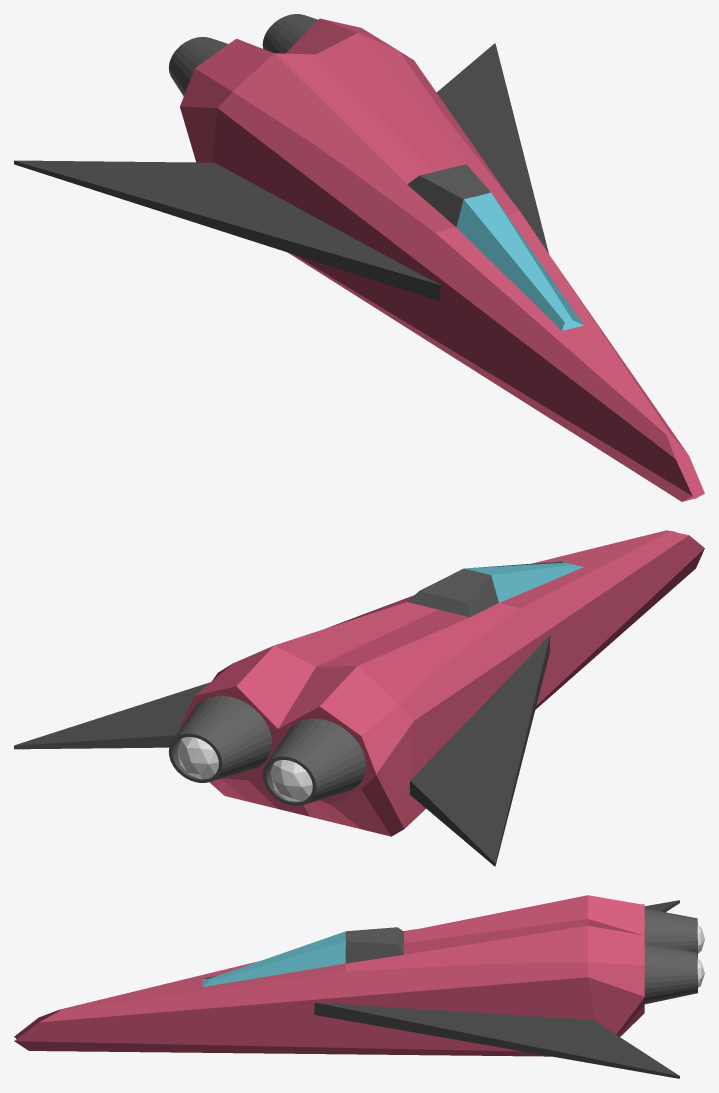
Rendered from spaceship NO1.fbx.
3 views of the same model, one above another, from view 1: azimuth 30°, elevation 25°; view 2: azimuth 150°, elevation 25°; view 3: azimuth 270°, elevation 25° (orthographic). The views are drawn at different scales.
Parts seen in each view (by area): view 1: Body, Wing, Exhaust Outer; view 2: Body, Wing, Exhaust Outer, Exhaust; view 3: Body, Wing, Exhaust Outer, Exhaust.
Part boxes in pixels (x1,y1,x2,y2): Body: (180,18,704,501); Wing: (14,43,548,301); Exhaust Outer: (168,14,317,96); Body: (180,530,704,836); Wing: (14,634,550,866); Exhaust Outer: (168,695,365,805); Exhaust: (177,737,312,801); Body: (14,895,644,1056); Wing: (314,900,679,1078); Exhaust Outer: (644,908,697,1004); Exhaust: (697,924,704,987).
Size of the model in its own units: 326 by 119 by 541.
